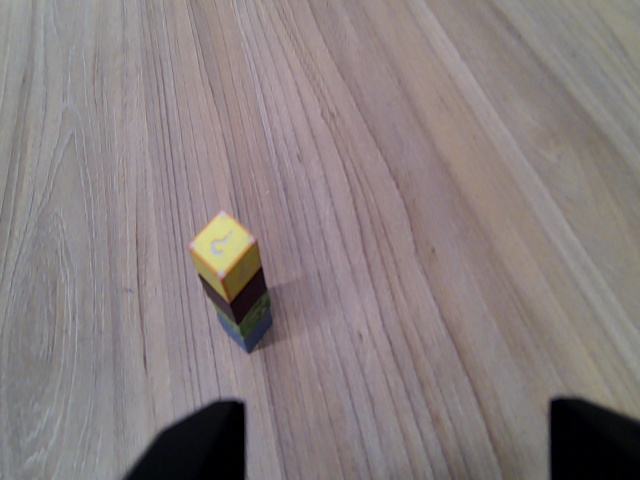brick: (223, 308, 278, 327)
grass: (233, 325, 277, 342)
lucky: (187, 216, 257, 285), (242, 344, 285, 360)
